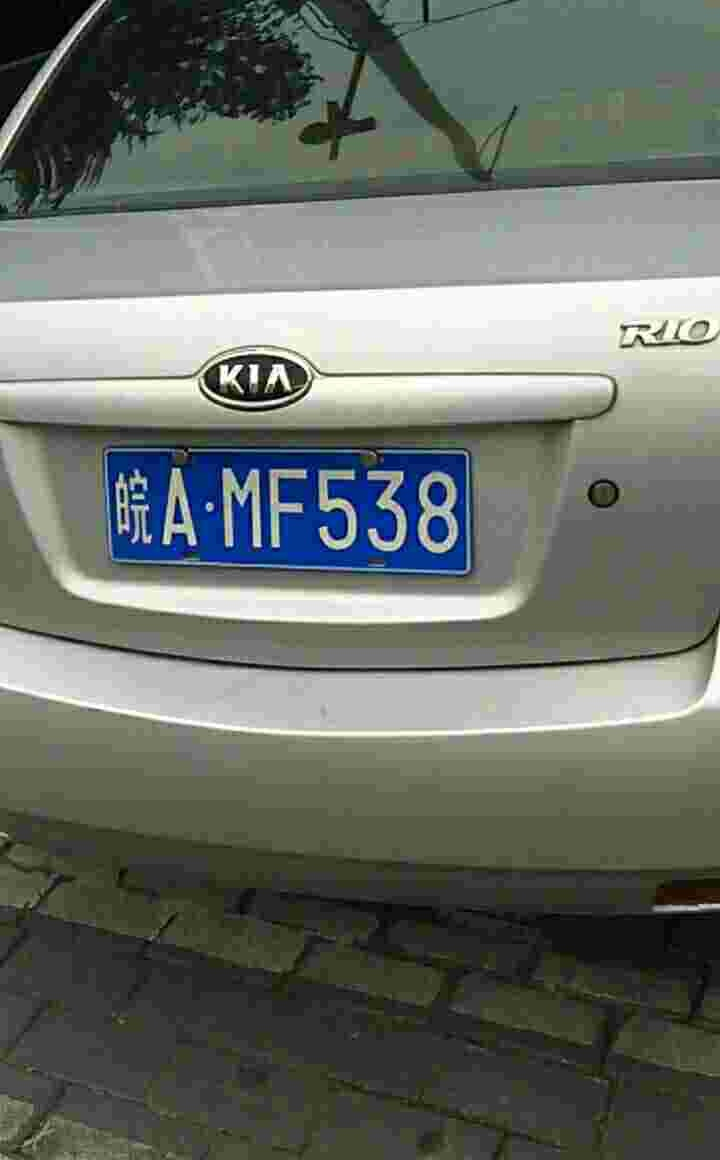license_plate: (111, 442, 471, 575)
